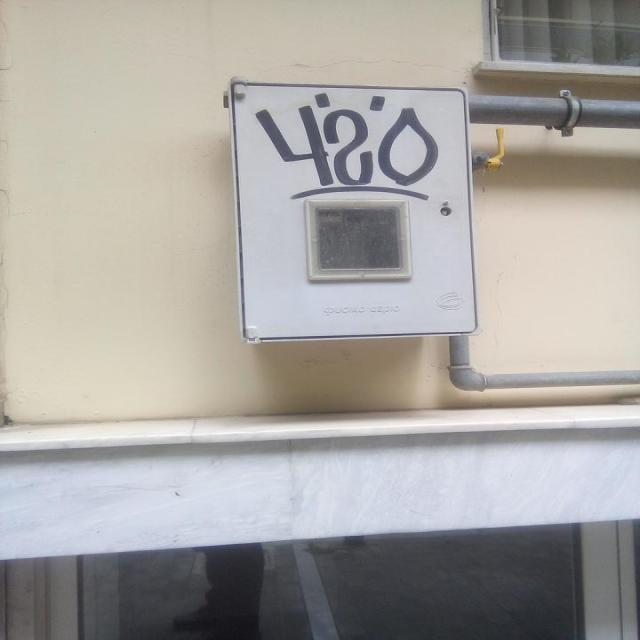nonspitting: (254, 92, 440, 202)
